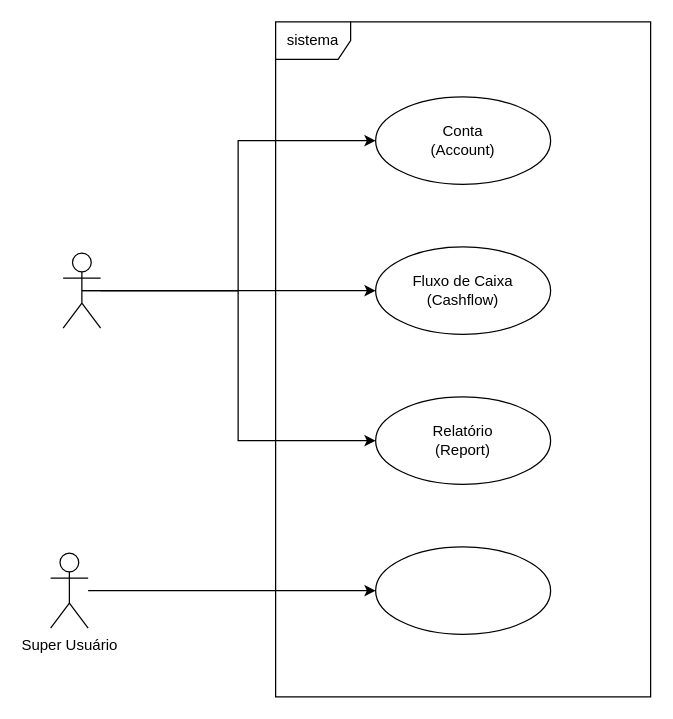
The diagram is 673 pixels wide and 719 high, and some of its shapes have lost their labels. The shapes that lost their labels are listed below. From the top down, each one's centre as x and y in pixels, then its label:
At (81,290): "Usuário".
At (462,590): "Admin".
